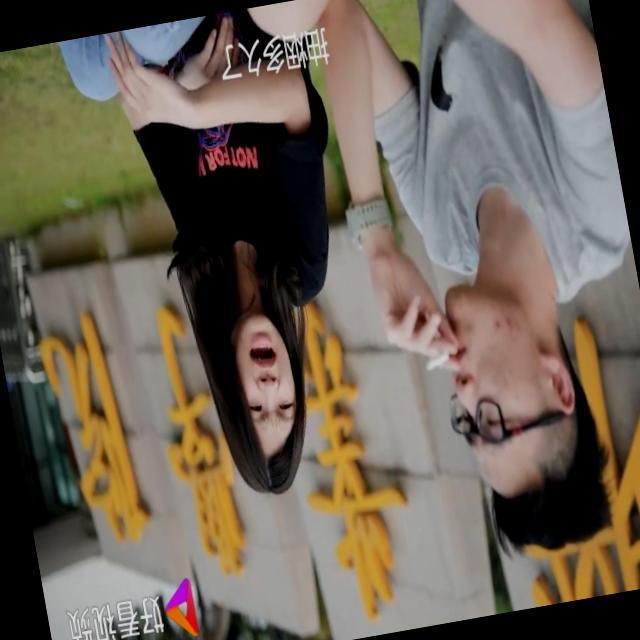cigarette: (416, 339, 458, 380)
